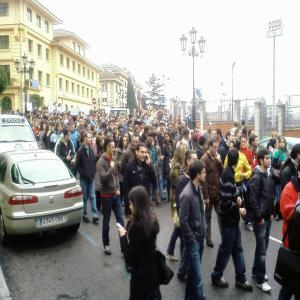Vehicle-registration-plate: (40, 216, 66, 228)
